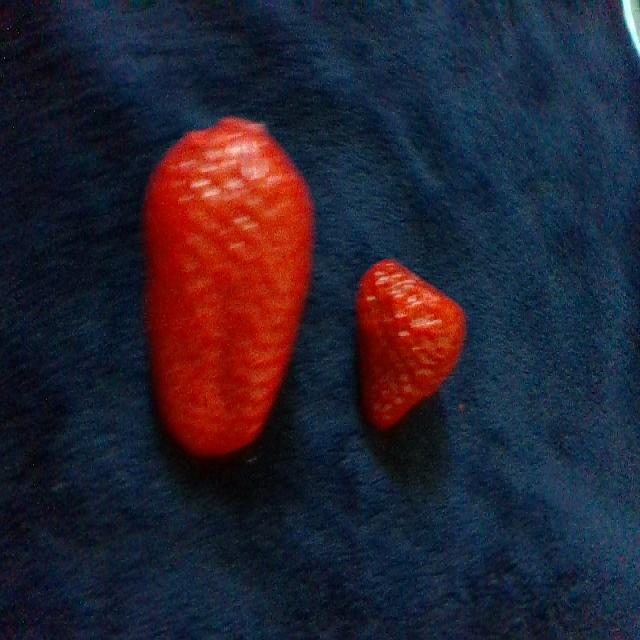chica_roja: (357, 260, 464, 428)
grande_roja: (146, 119, 312, 455)
